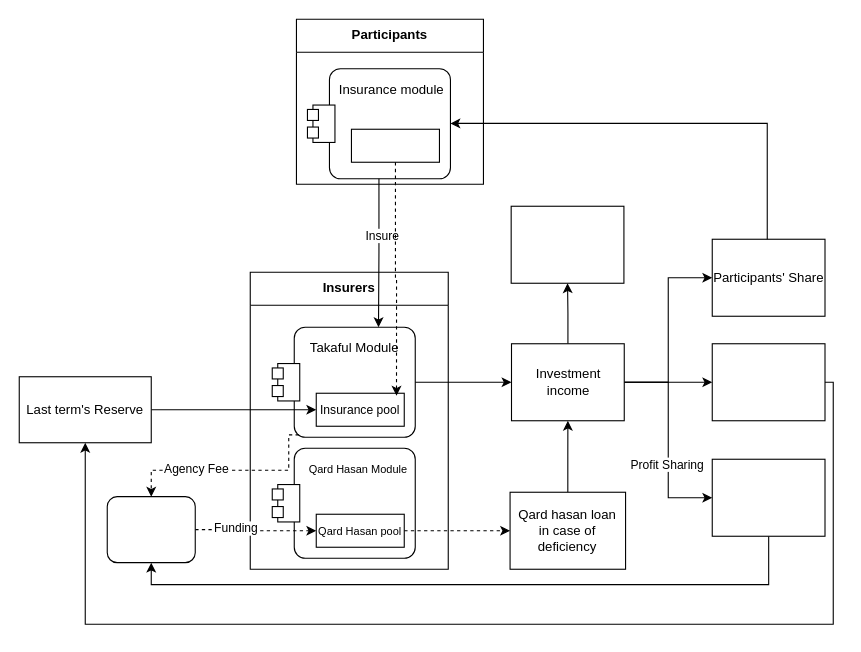
Some shapes in this 861 by 652 pixel diagram are drawn without their labels. The shapes that lost their labels are listed below. From the top down, each one's centre as x and y in pixels, then its label:
At point (394, 145): "premium".
At point (567, 244): "Claims".
At point (768, 382): "Retention".
At point (768, 497): "Insurers' Share".
At point (150, 529): "Shareholders /Insurers".
